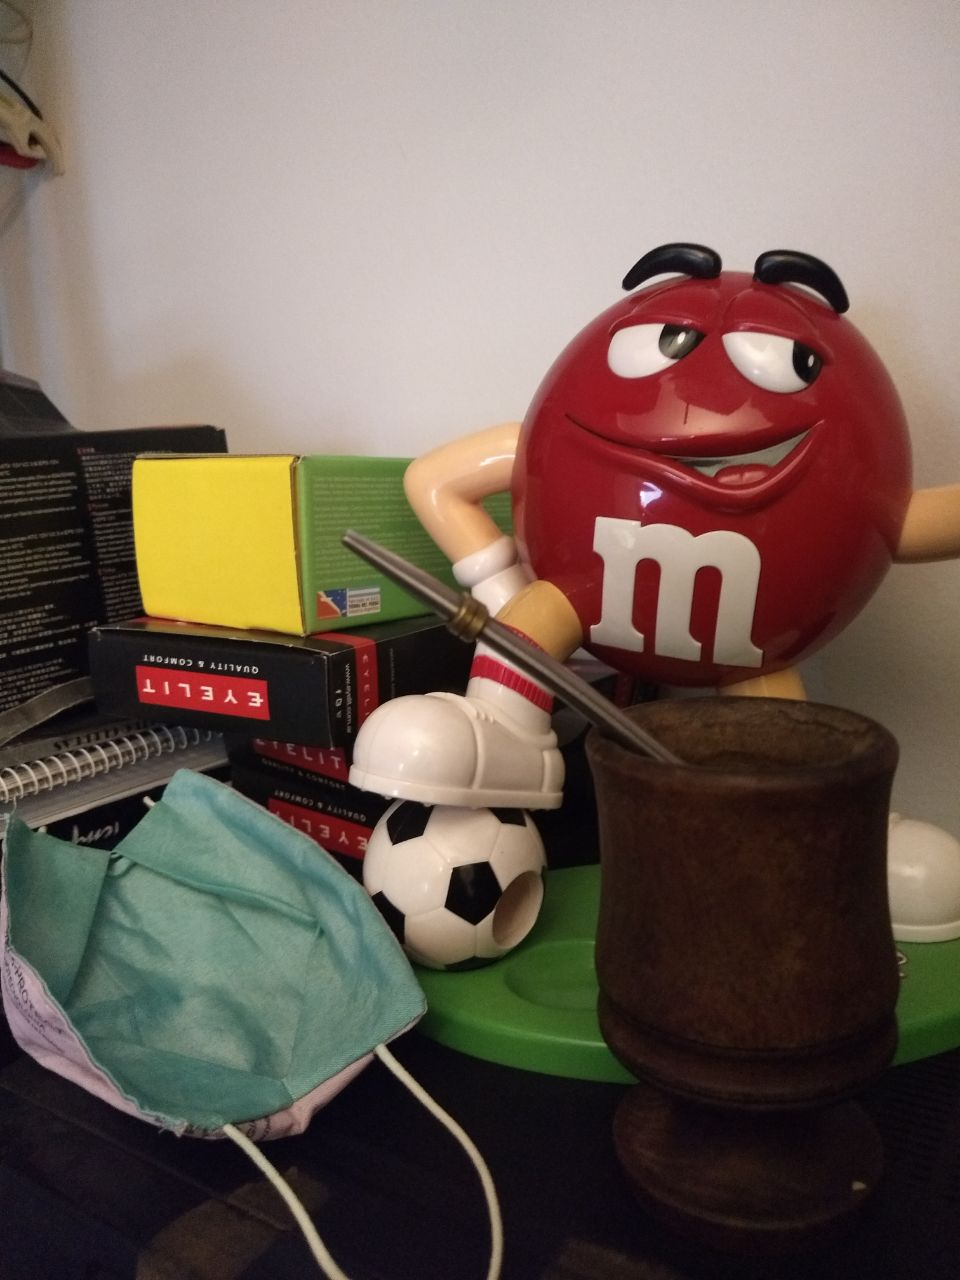madera: (337, 523, 906, 1233)
mate: (339, 525, 908, 1235)
